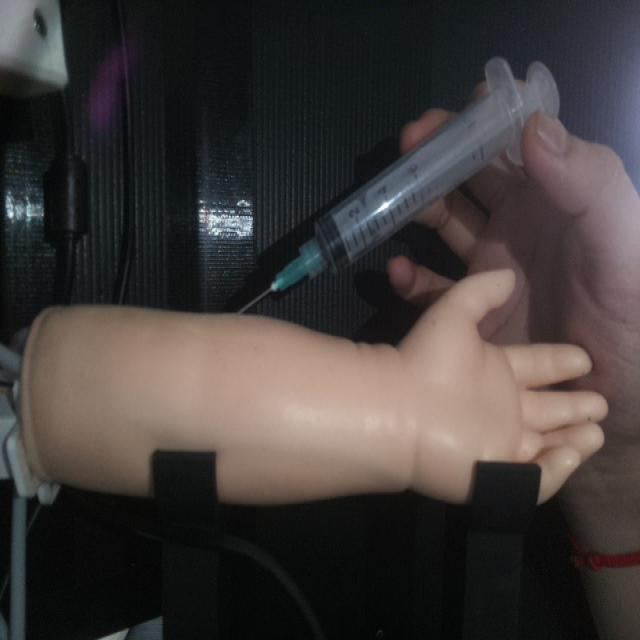Above 30 degrees: (229, 53, 561, 316)
